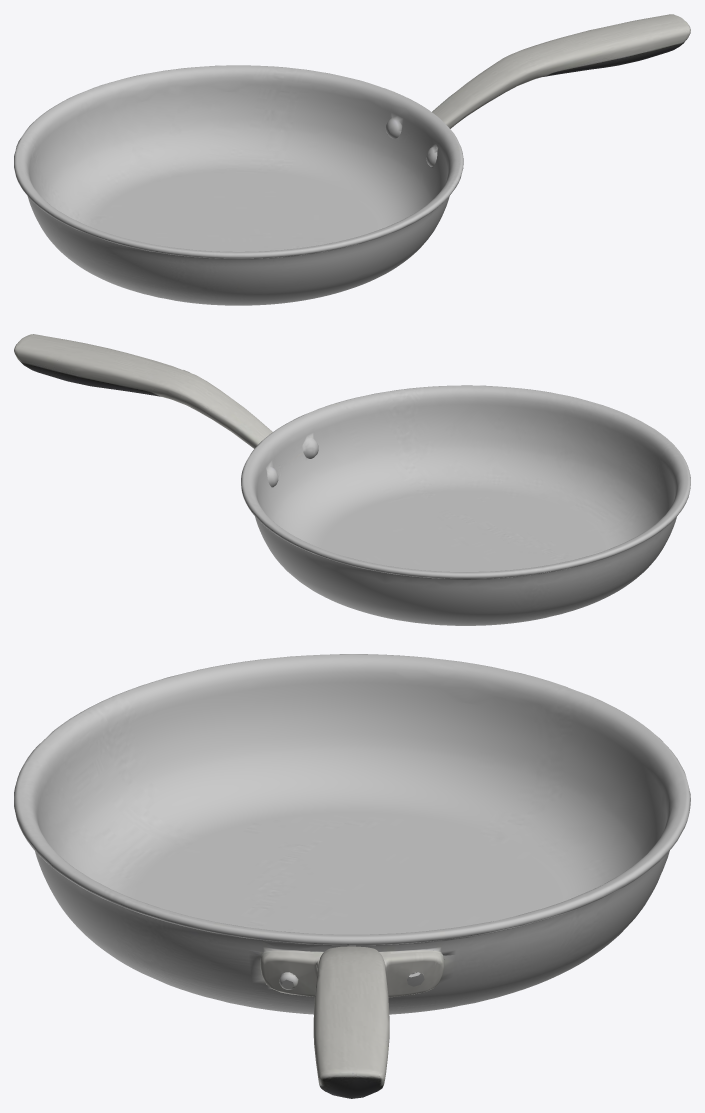
Rendered from sensuell_patelnia_60324544.glb.
The picture shows the model from 3 angles, top to bottom: view 1: azimuth 30°, elevation 25°; view 2: azimuth 150°, elevation 25°; view 3: azimuth 270°, elevation 25°; orthographic projection. The views are drawn at different scales.
Visible parts, largest first — view 1: sensuell_patelnia_60324544; view 2: sensuell_patelnia_60324544; view 3: sensuell_patelnia_60324544.
Boxes of the visible parts, left/top/right/bottom form: sensuell_patelnia_60324544: left=14, top=14, right=690, bottom=305; sensuell_patelnia_60324544: left=14, top=334, right=690, bottom=625; sensuell_patelnia_60324544: left=14, top=654, right=690, bottom=1098.
Size of the model in its own units: 0.4754 by 0.081 by 0.2897.
Materials: 1 (1 with a texture image).
